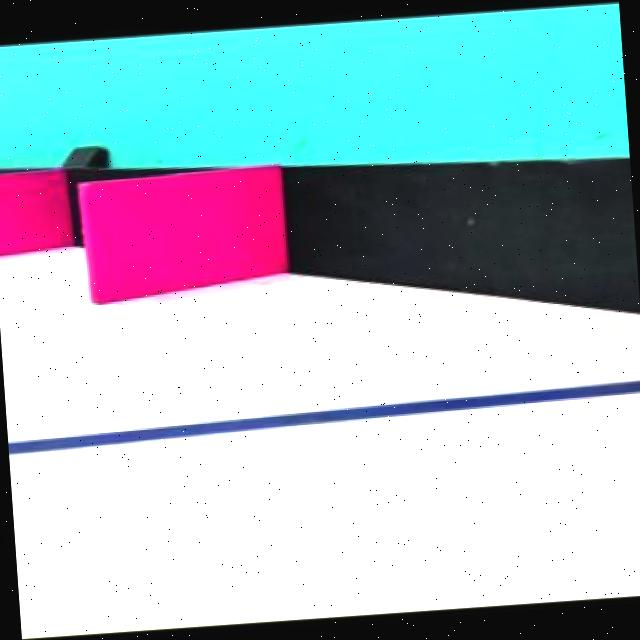xparking: (88, 186, 283, 300), (0, 181, 60, 253)
